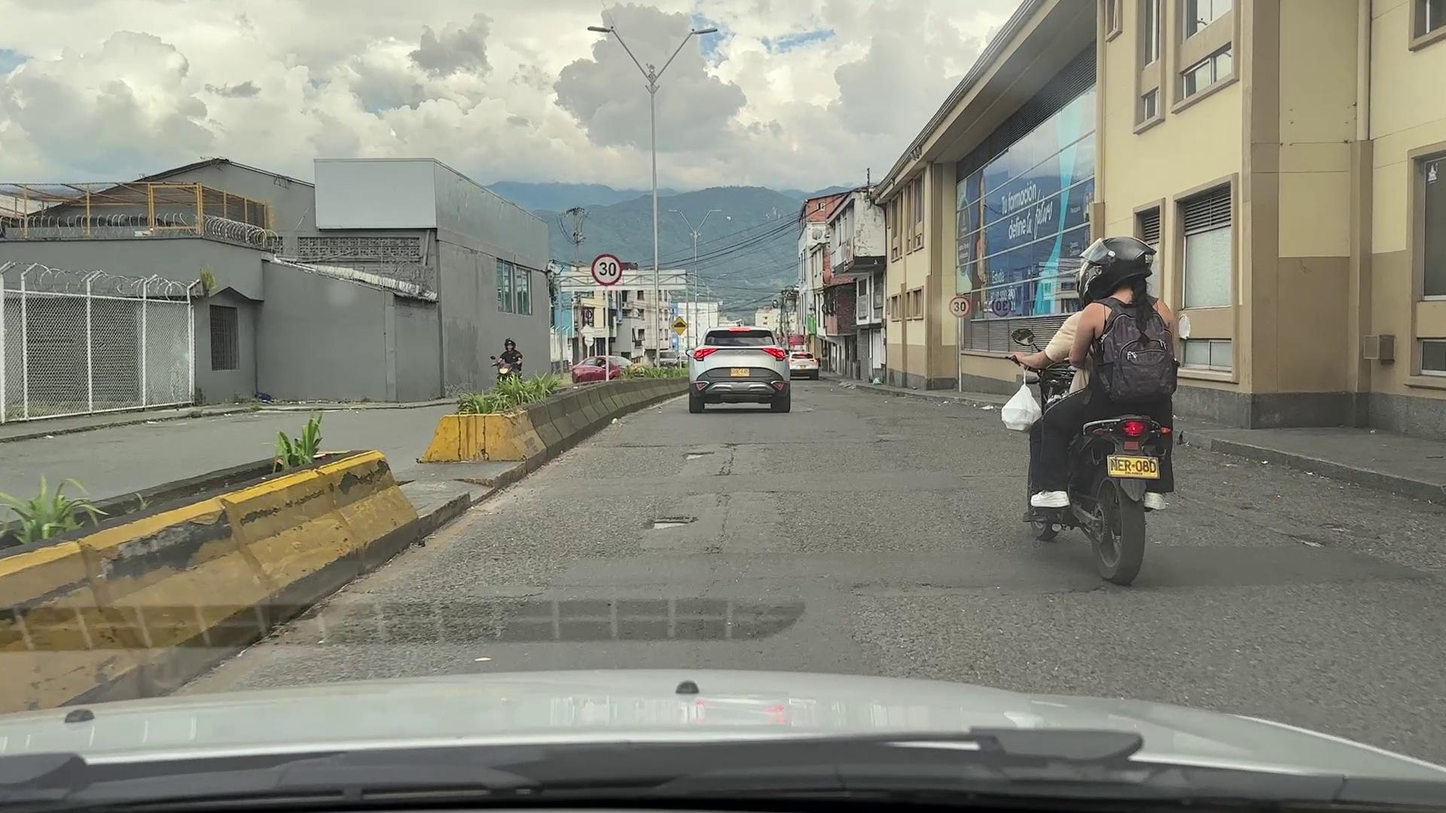bache: (1321, 523, 1378, 537), (1288, 535, 1324, 547), (652, 521, 689, 529), (686, 452, 714, 460)
grieta: (713, 453, 739, 476), (720, 442, 769, 451)
